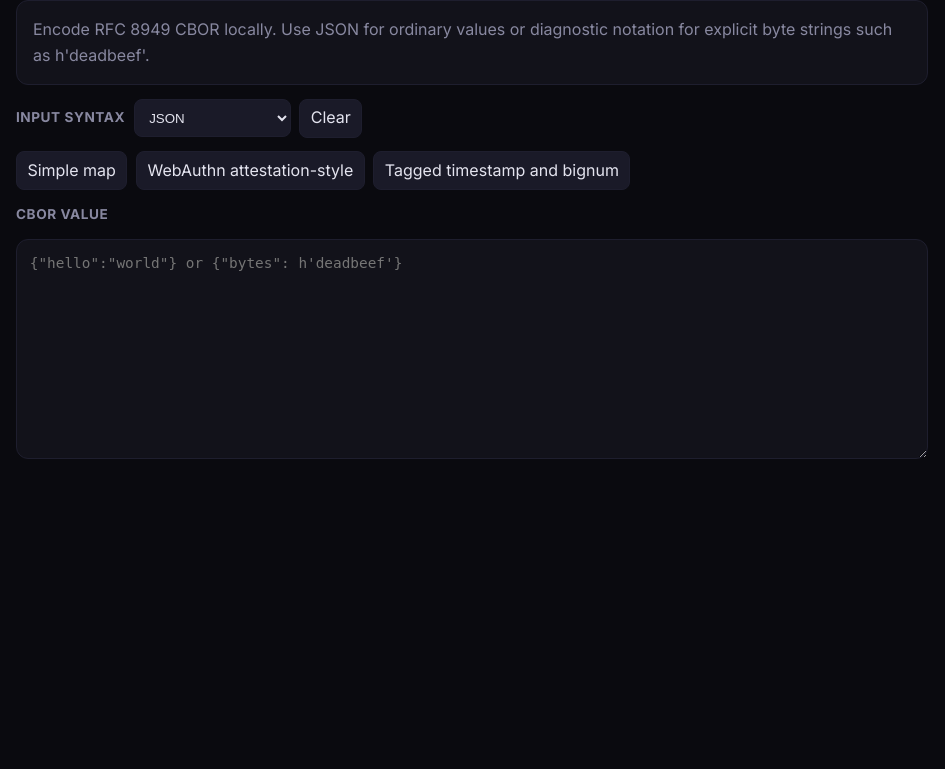
Test: CborEncoderTool clipboard feedback › reports clipboard failure as an alert
This screenshot has width=945, height=769.
Step 1. Type "true" into the text box labelled "CBOR value" → coordinates (472, 349), box [16,239,928,459]
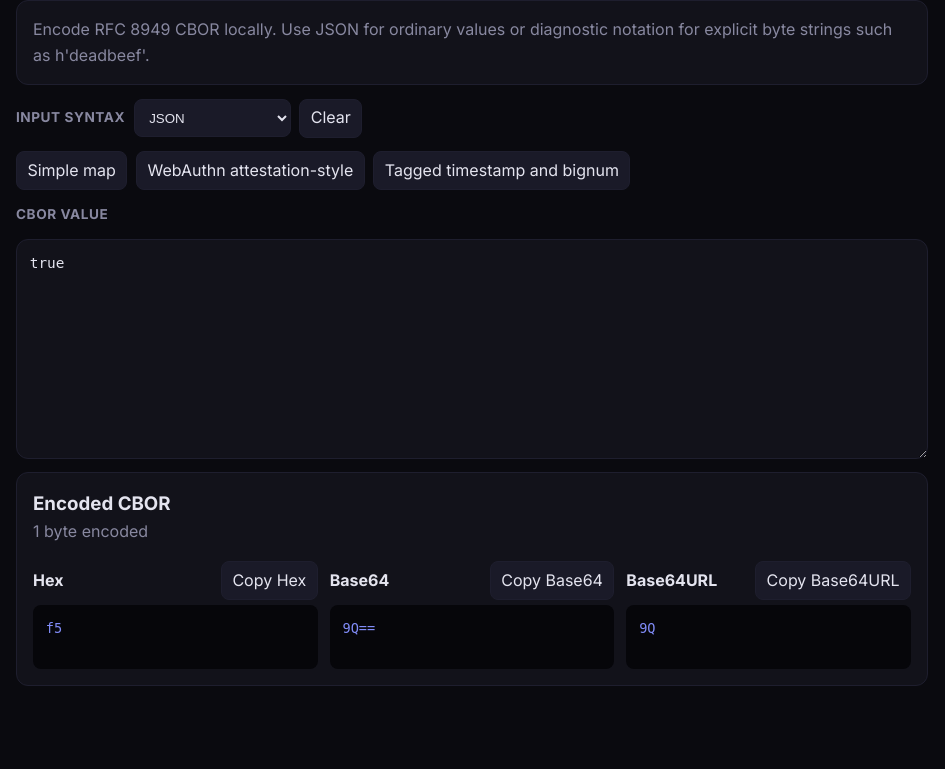
Now the button "Copy Hex" is shown
Step 2. Click the button "Copy Hex" → coordinates (269, 580), box [221,561,318,600]
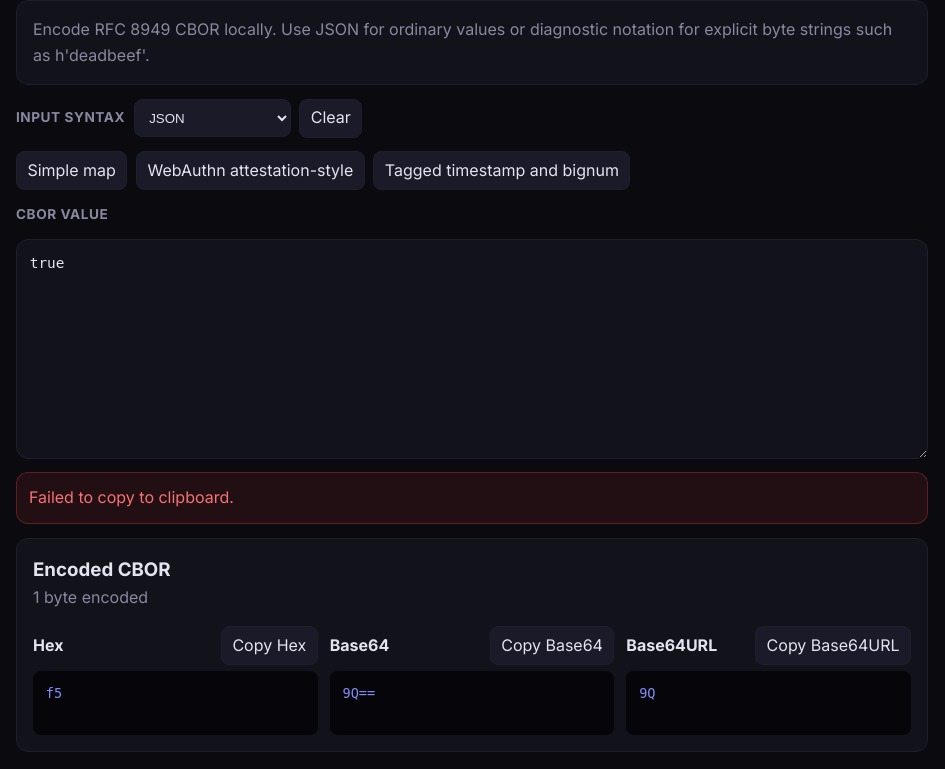
Now the message reads "Failed to copy to clipboard.", box [29,488,234,508]
